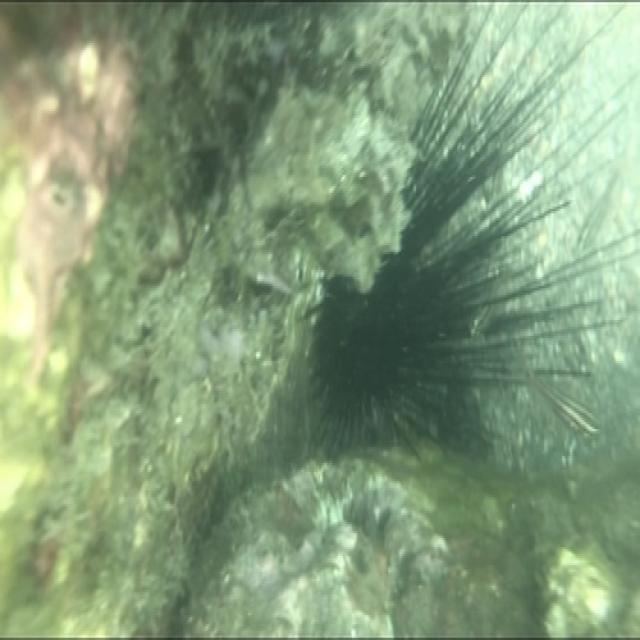Urchin: (302, 13, 631, 444)
